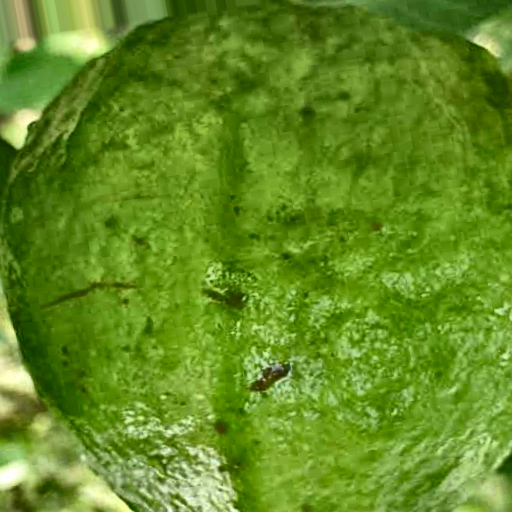guava: (26, 102, 417, 436)
